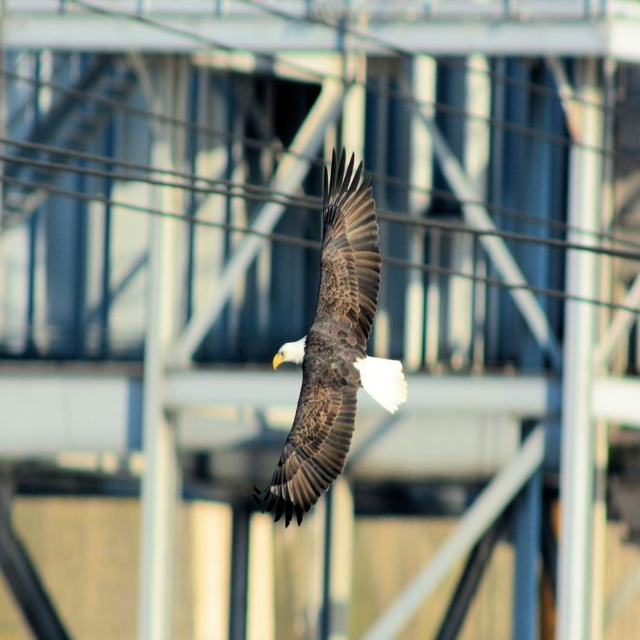Eagle: (246, 143, 411, 532)
